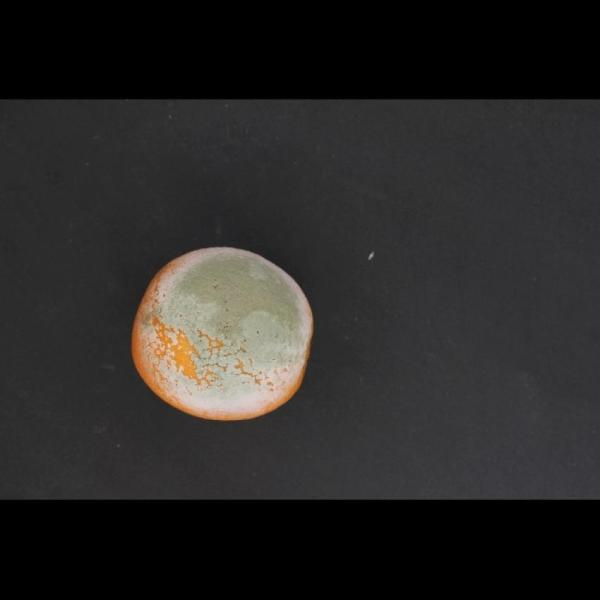Moho verde: (115, 239, 328, 435)
